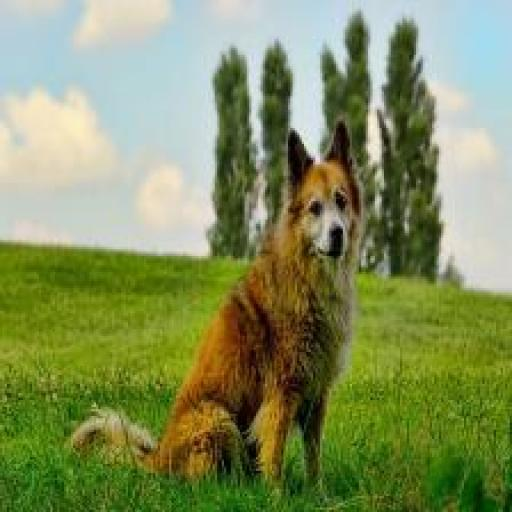wolf: (68, 116, 364, 495)
